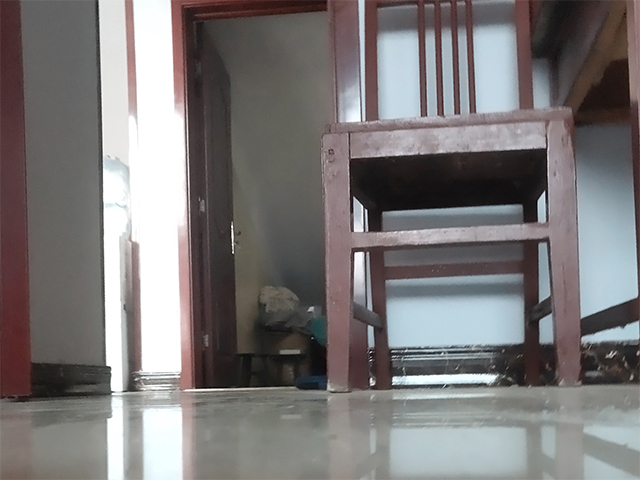stool: (319, 1, 583, 395)
table: (527, 1, 640, 379)
